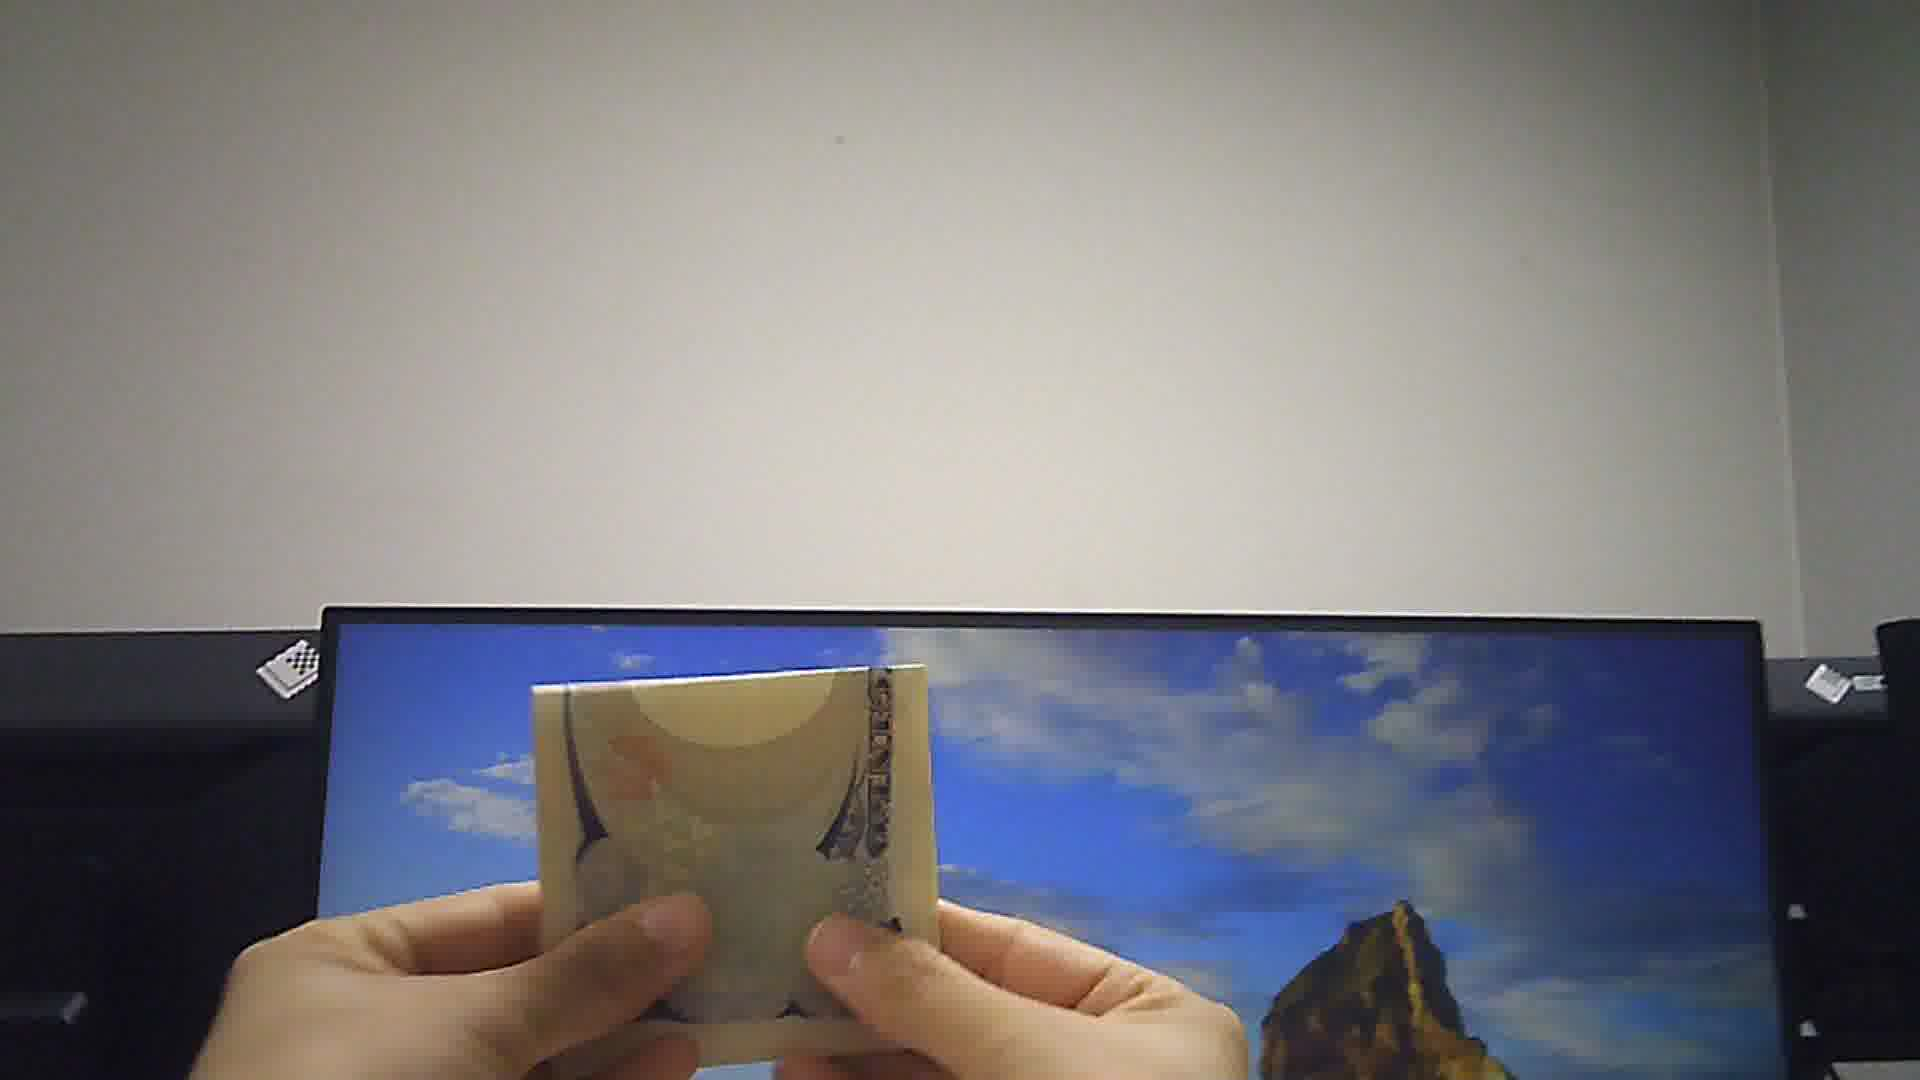1,000 Yen: (525, 665, 945, 1079)
